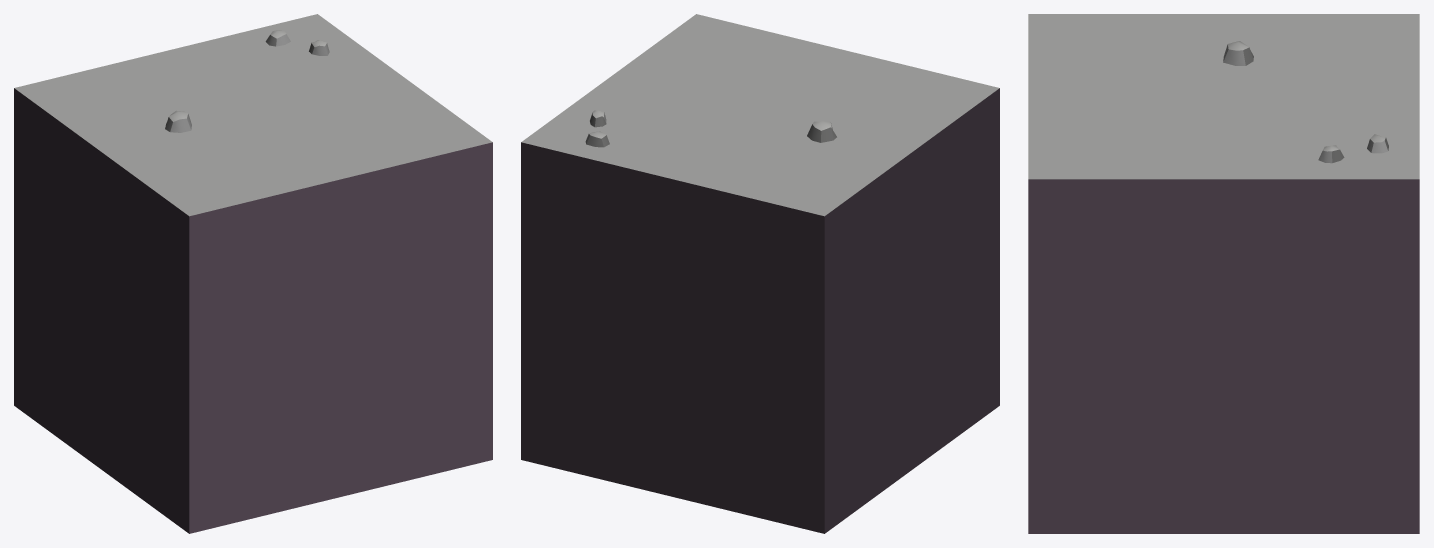
The model's file is tile_floor_plain04.FBX.
3 views of the same model, side by side, from view 1: azimuth 30°, elevation 25°; view 2: azimuth 150°, elevation 25°; view 3: azimuth 270°, elevation 25° (orthographic). The views are drawn at different scales.
Visible parts, largest first — view 1: tile_floor_plain04; view 2: tile_floor_plain04; view 3: tile_floor_plain04.
Boxes of the visible parts, x1,y1,x2,y2 form: tile_floor_plain04: [14, 14, 492, 533]; tile_floor_plain04: [521, 14, 999, 533]; tile_floor_plain04: [1028, 14, 1419, 533].
Size of the model in its own units: 39.37 by 41.25 by 39.37.
